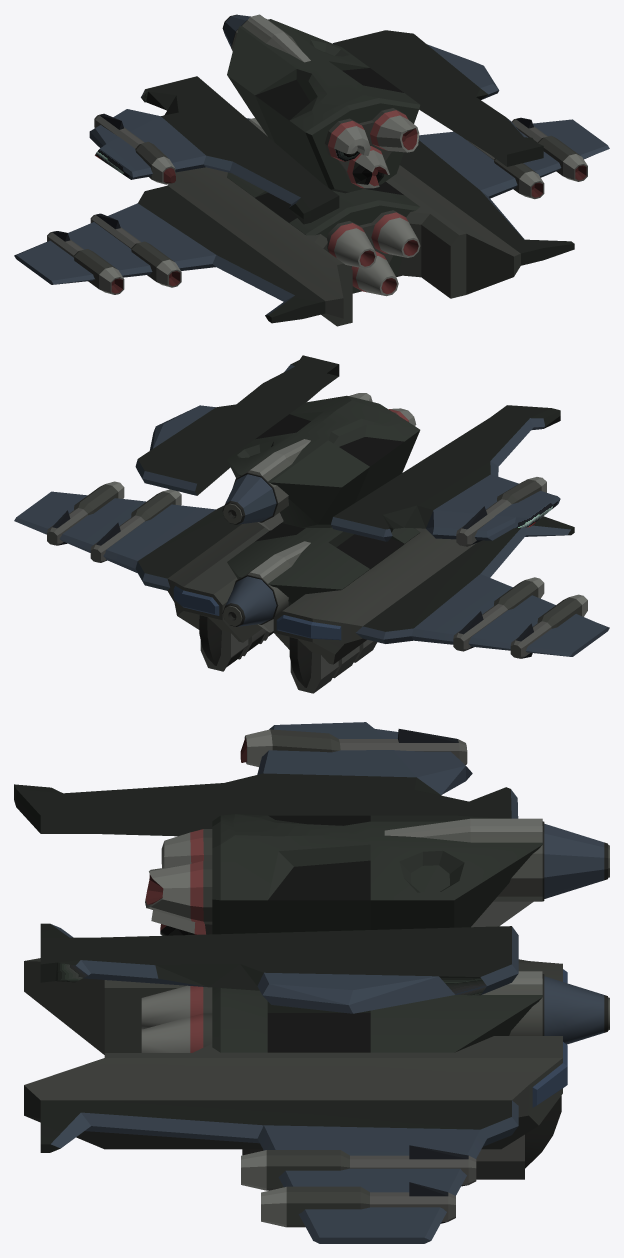
The model's file is Bomberv1.fbx.
The picture shows the model from 3 angles, top to bottom: view 1: azimuth 30°, elevation 25°; view 2: azimuth 150°, elevation 25°; view 3: azimuth 270°, elevation 25°; orthographic projection. The views are drawn at different scales.
Visible parts, largest first — view 1: Bomber Core_Broken, Bomber Chassis, Bomber Wings.L, Bomber Wings.L_Broken, Bomber Wings.R, Bomber Wings.R_Broken, Bomber Core; view 2: Bomber Chassis, Bomber Core_Broken, Bomber Wings.L, Bomber Wings.L_Broken, Bomber Wings.R, Bomber Wings.R_Broken, Bomber Core; view 3: Bomber Core_Broken, Bomber Chassis, Bomber Wings.R, Bomber Wings.L_Broken, Bomber Wings.R_Broken, Bomber Core.
Boxes of the visible parts, x1,y1,x2,y2 form: Bomber Core_Broken: [222, 14, 420, 193]; Bomber Chassis: [167, 165, 520, 326]; Bomber Wings.L: [14, 185, 325, 323]; Bomber Wings.L_Broken: [89, 76, 339, 224]; Bomber Wings.R: [400, 117, 609, 265]; Bomber Wings.R_Broken: [333, 30, 543, 166]; Bomber Core: [227, 118, 420, 296]; Bomber Chassis: [167, 522, 476, 693]; Bomber Core_Broken: [222, 393, 420, 530]; Bomber Wings.L: [356, 516, 609, 658]; Bomber Wings.L_Broken: [331, 405, 560, 546]; Bomber Wings.R: [14, 481, 241, 590]; Bomber Wings.R_Broken: [135, 355, 339, 495]; Bomber Core: [222, 523, 420, 632]; Bomber Core_Broken: [145, 814, 609, 935]; Bomber Chassis: [24, 958, 567, 1179]; Bomber Wings.R: [40, 1100, 518, 1243]; Bomber Wings.L_Broken: [14, 722, 518, 836]; Bomber Wings.R_Broken: [40, 926, 518, 1013]; Bomber Core: [141, 971, 609, 1052].
Size of the model in its own units: 142 by 88.55 by 52.28.
